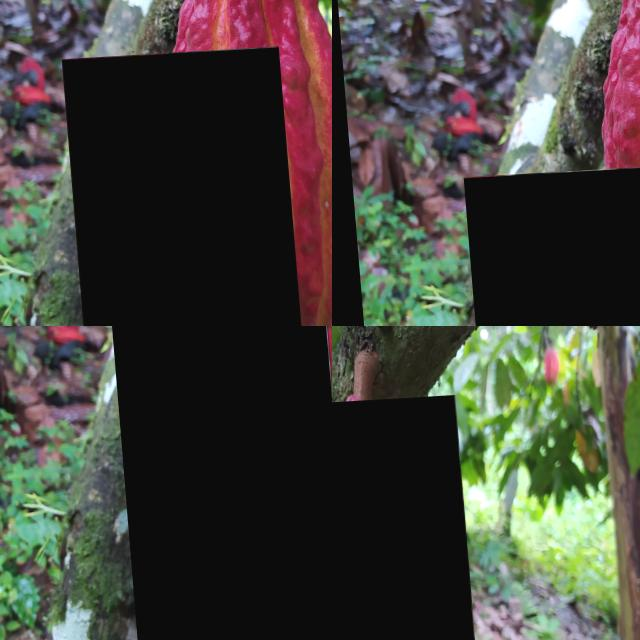Sana: (96, 326, 332, 640), (57, 51, 300, 326), (332, 400, 484, 640), (457, 170, 640, 326), (337, 24, 389, 120)
